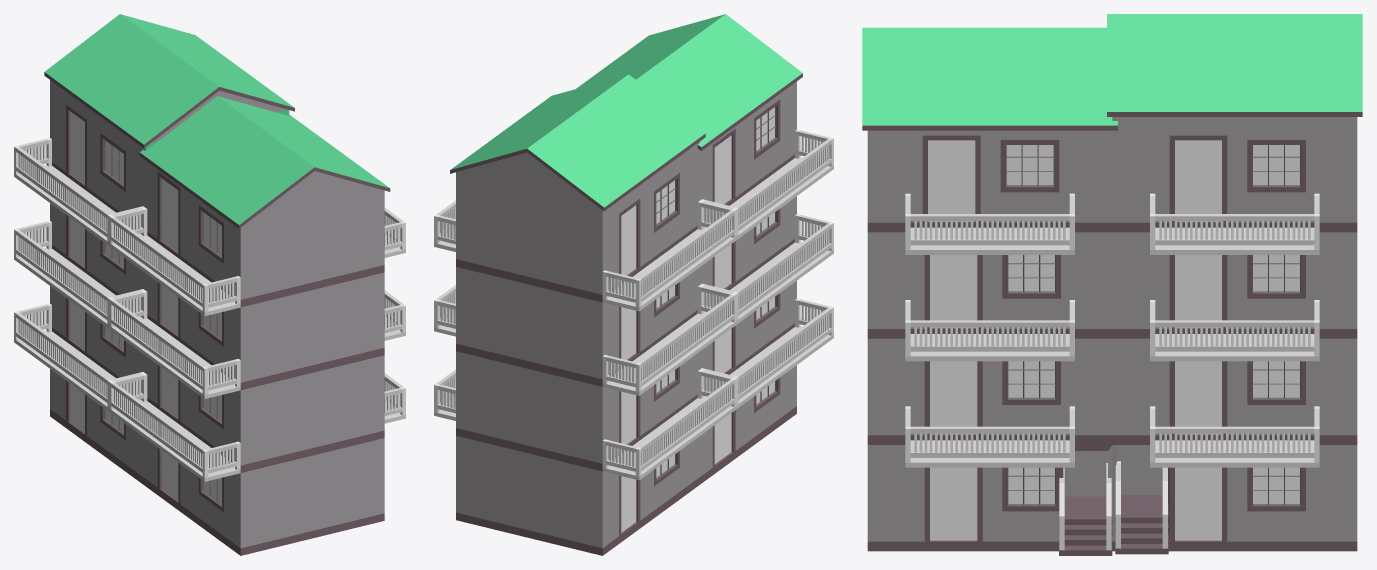
The model's file is Apartment b.fbx.
3 renders of one model, left to right at view 1: azimuth 30°, elevation 25°; view 2: azimuth 150°, elevation 25°; view 3: azimuth 270°, elevation 25°, orthographic. The views are drawn at different scales.
Visible parts, largest first — view 1: building_003; view 2: building_003; view 3: building_003.
Boxes of the visible parts, left/top/right/bottom form: building_003: left=14, top=14, right=405, bottom=555; building_003: left=434, top=14, right=833, bottom=555; building_003: left=862, top=14, right=1362, bottom=555.
Size of the model in its own units: 600 by 1018 by 938.
